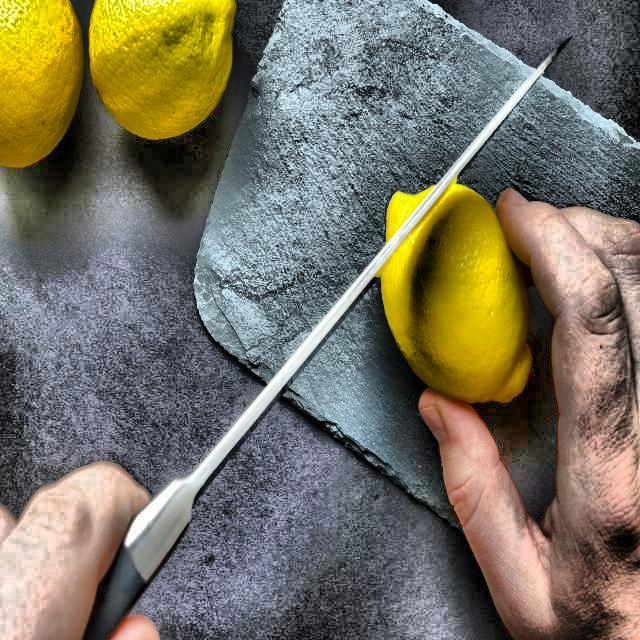knife: (81, 37, 566, 640)
